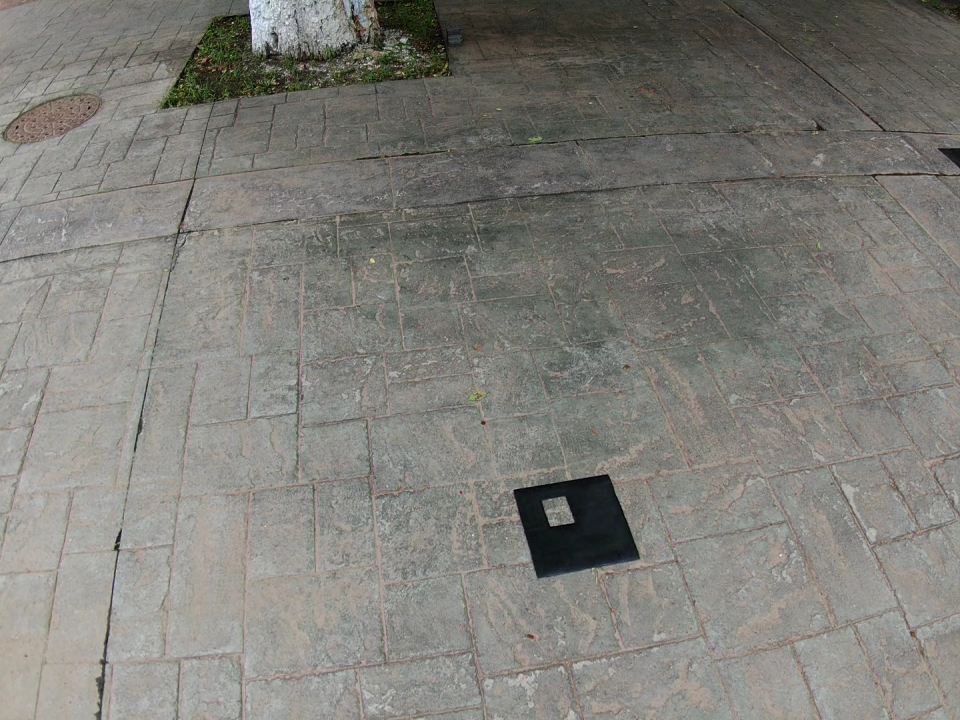qrcode: (514, 474, 640, 578)
